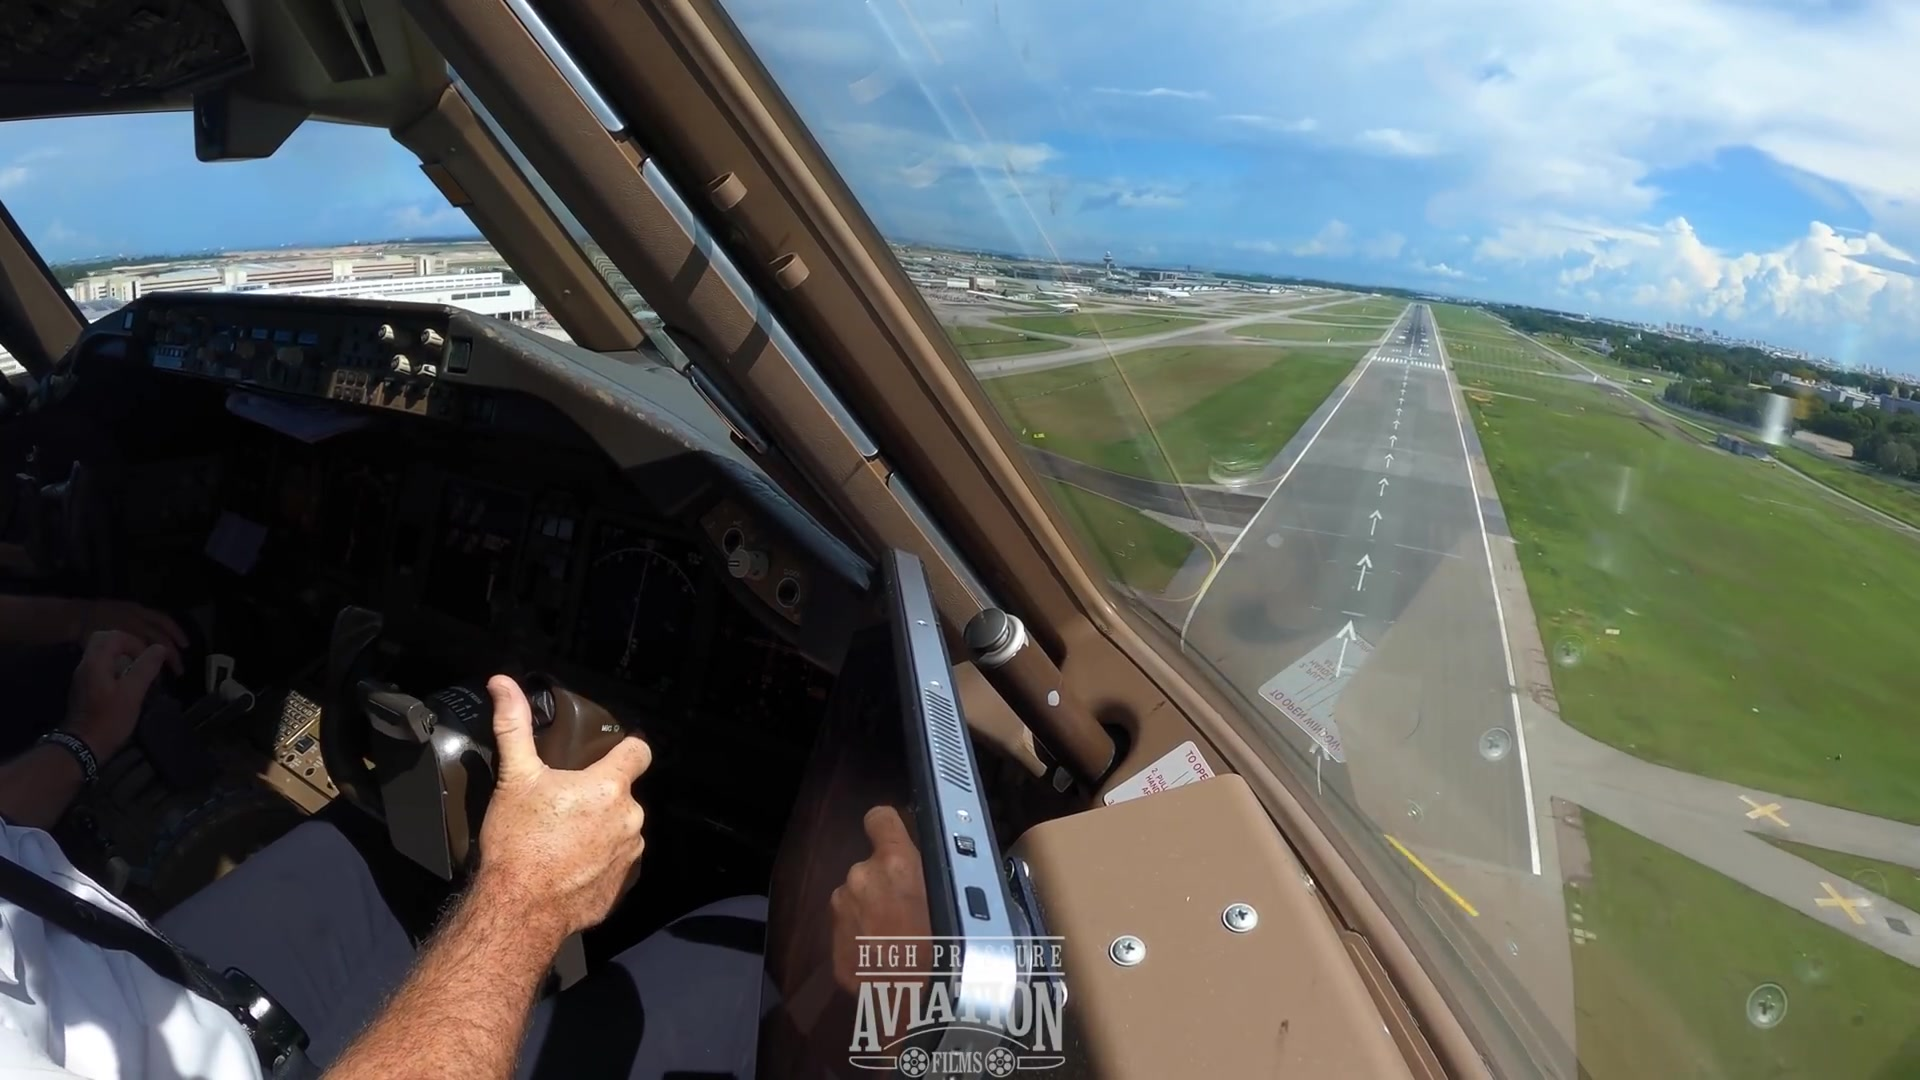entrance: (1369, 348, 1451, 372)
runway: (1149, 301, 1543, 882)
